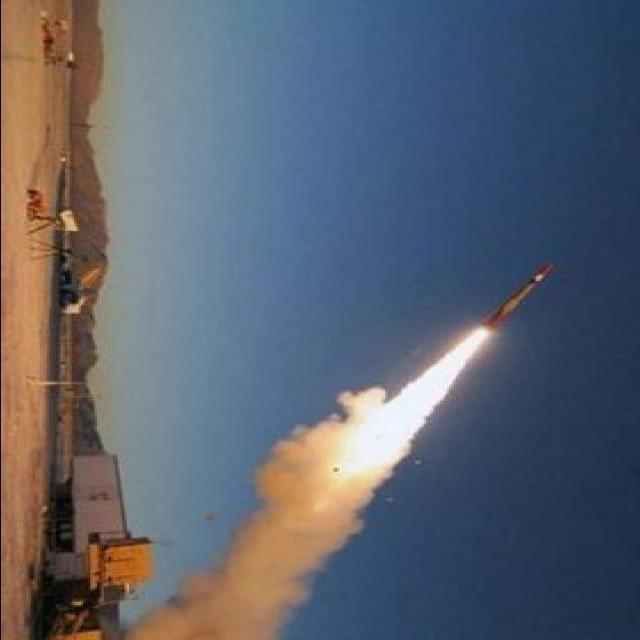missile: (485, 259, 558, 331)
